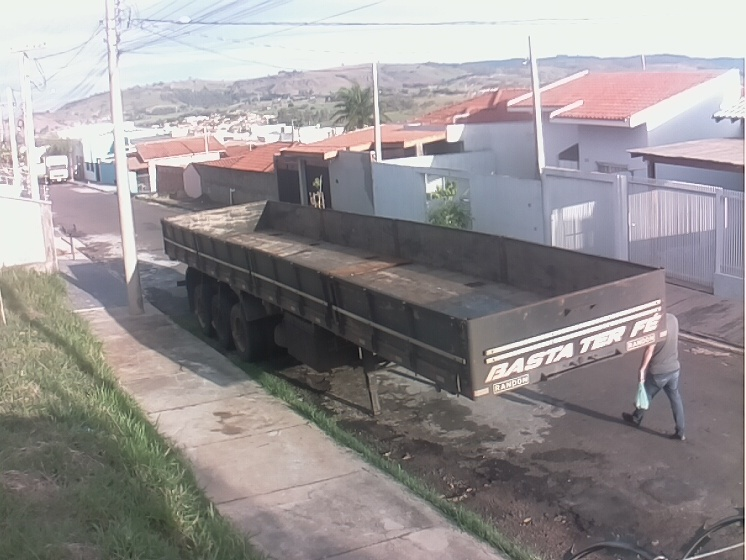person: (620, 312, 688, 443)
